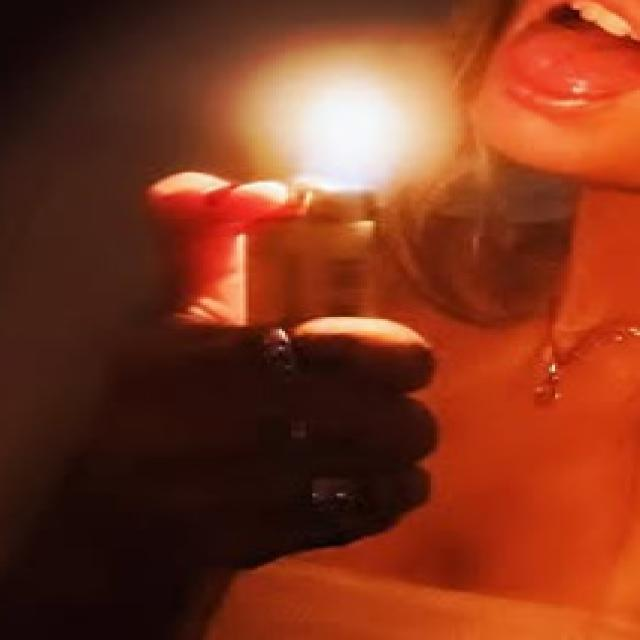fire: (232, 41, 459, 194)
